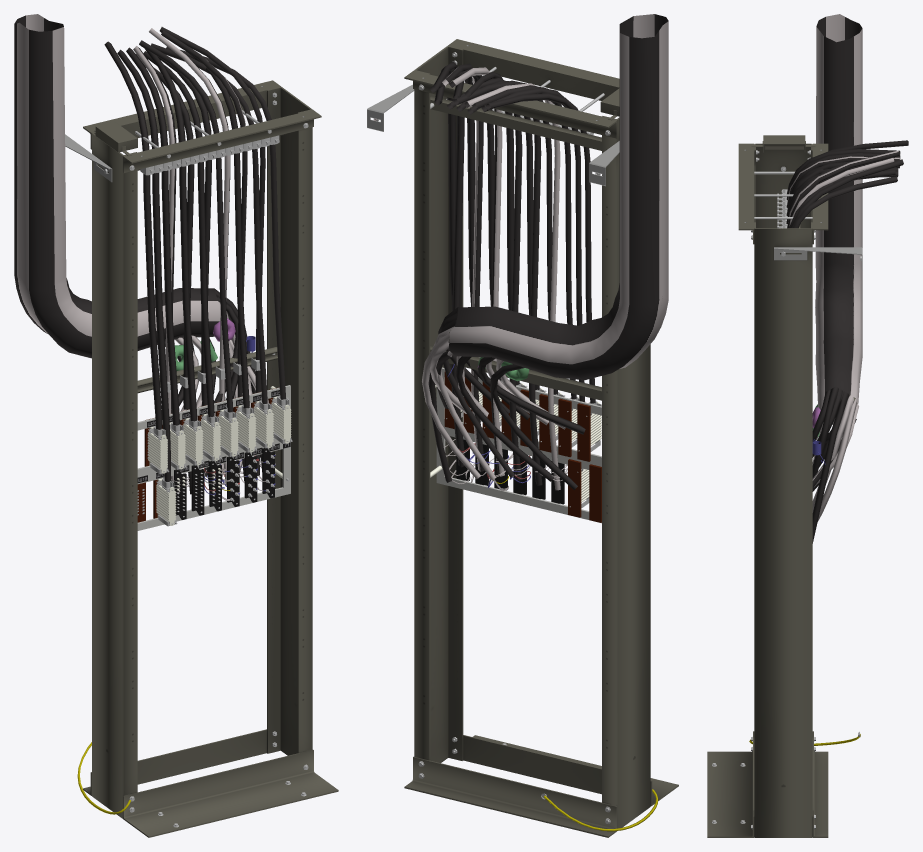
File: stativ171.fbx
3 views of the same model, side by side, from view 1: azimuth 30°, elevation 25°; view 2: azimuth 150°, elevation 25°; view 3: azimuth 270°, elevation 25° (orthographic). The views are drawn at different scales.
Parts seen in each view (by area): view 1: stativ 171; view 2: stativ 171; view 3: stativ 171.
Boxes of the visible parts, left/top/right/bottom form: stativ 171: left=14, top=14, right=338, bottom=837; stativ 171: left=367, top=14, right=678, bottom=837; stativ 171: left=707, top=14, right=908, bottom=837.
Bounding box in the file's own units: 87.39 × 246 × 63.
